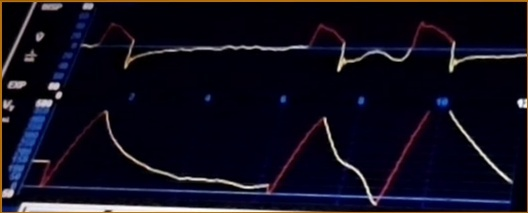Ineffective_effort Flow: (81, 12, 526, 75)
Ineffective_effort Volume: (34, 110, 510, 209)
